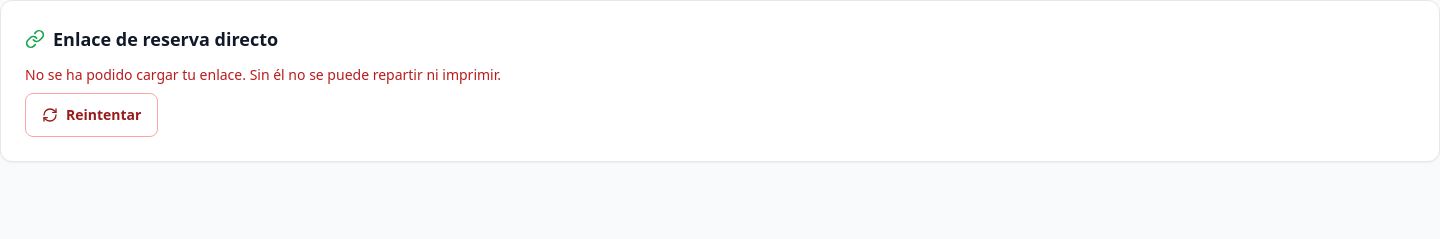
Test: BookingLinkCard › si no carga, no hay enlace que copiar y se puede reintentar
The image size is (1440, 239).
Check: the message is shown, box [25, 65, 501, 137]
Check: the button "Copiar" is not shown
What coordinates should you click on to do the following:
click the button "Reintentar"
I would click on:
 (92, 115)
Its box is [25, 93, 158, 137].
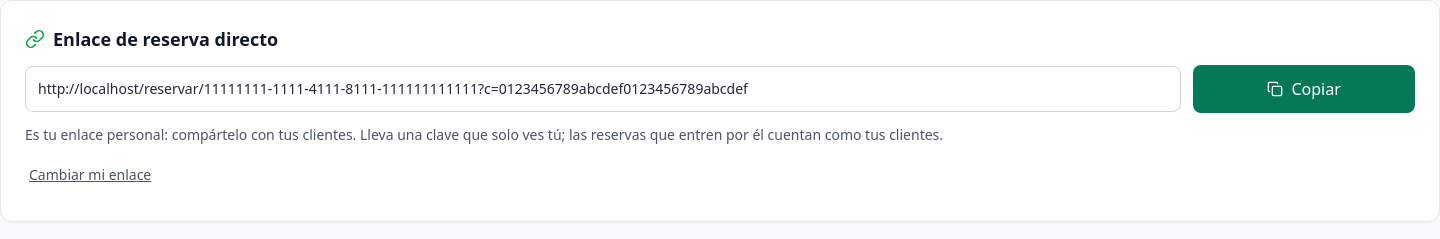
Check: the field named "Tu enlace de reserva" is shown, box [25, 66, 1181, 112]
